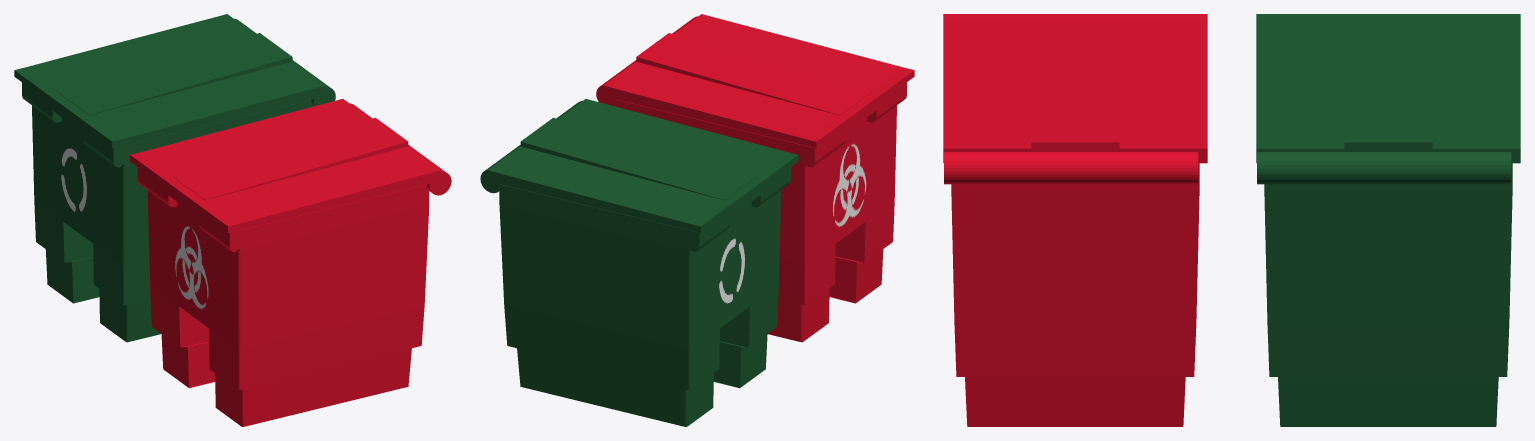
Rendered from Basura_Consul.fbx.
3 renders of one model, left to right at view 1: azimuth 30°, elevation 25°; view 2: azimuth 150°, elevation 25°; view 3: azimuth 270°, elevation 25°, orthographic. The views are drawn at different scales.
Visible parts, largest first — view 1: Cube.019, Cube.020; view 2: Cube.020, Cube.019; view 3: Cube.019, Cube.020.
Part boxes in pixels (<box>): Cube.019: <box>130,99,451,426</box>; Cube.020: <box>14,14,335,342</box>; Cube.020: <box>480,99,798,426</box>; Cube.019: <box>596,14,914,342</box>; Cube.019: <box>943,14,1207,426</box>; Cube.020: <box>1256,14,1520,426</box>.
Bounding box in the file's own units: 48.53 × 46.01 × 80.19.
